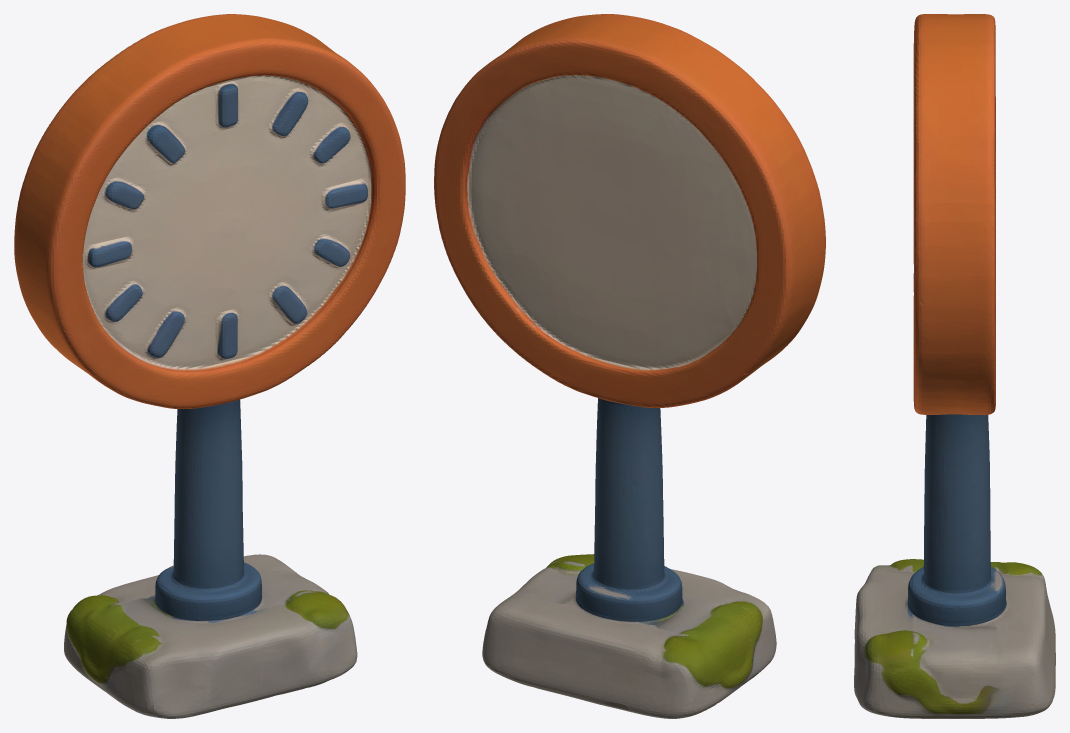
The model's file is clock-face.glb.
3 views of the same model, side by side, from view 1: azimuth 30°, elevation 25°; view 2: azimuth 150°, elevation 25°; view 3: azimuth 270°, elevation 25° (orthographic).
Visible parts, largest first — view 1: textured_mesh.obj; view 2: textured_mesh.obj; view 3: textured_mesh.obj.
Part boxes in pixels (x1,y1,x2,y2): textured_mesh.obj: [14, 14, 405, 718]; textured_mesh.obj: [434, 14, 825, 718]; textured_mesh.obj: [854, 14, 1055, 718].
Size of the model in its own units: 1.17 by 1.99 by 0.5698.
Materials: 1 (1 with a texture image).
